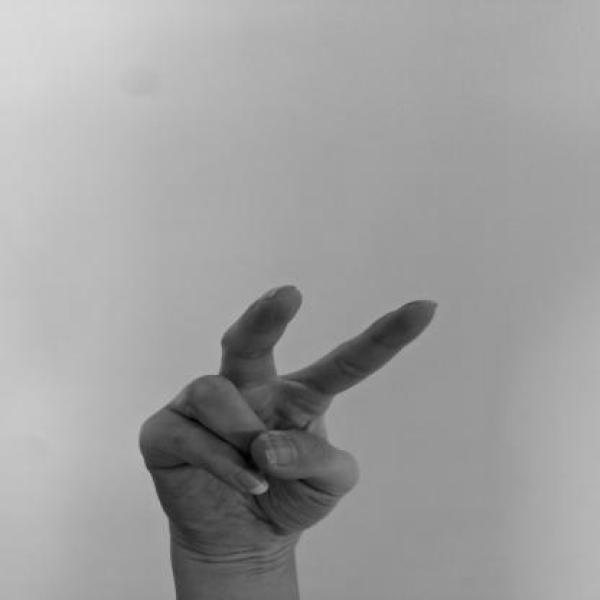V: (134, 281, 444, 560)
